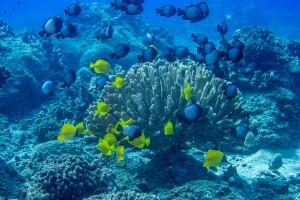bleached_corals: (83, 56, 251, 157), (138, 149, 200, 196)
